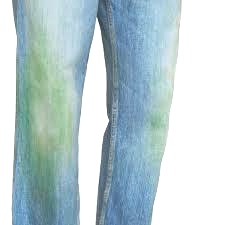earth: (23, 52, 67, 175), (145, 102, 164, 144)
